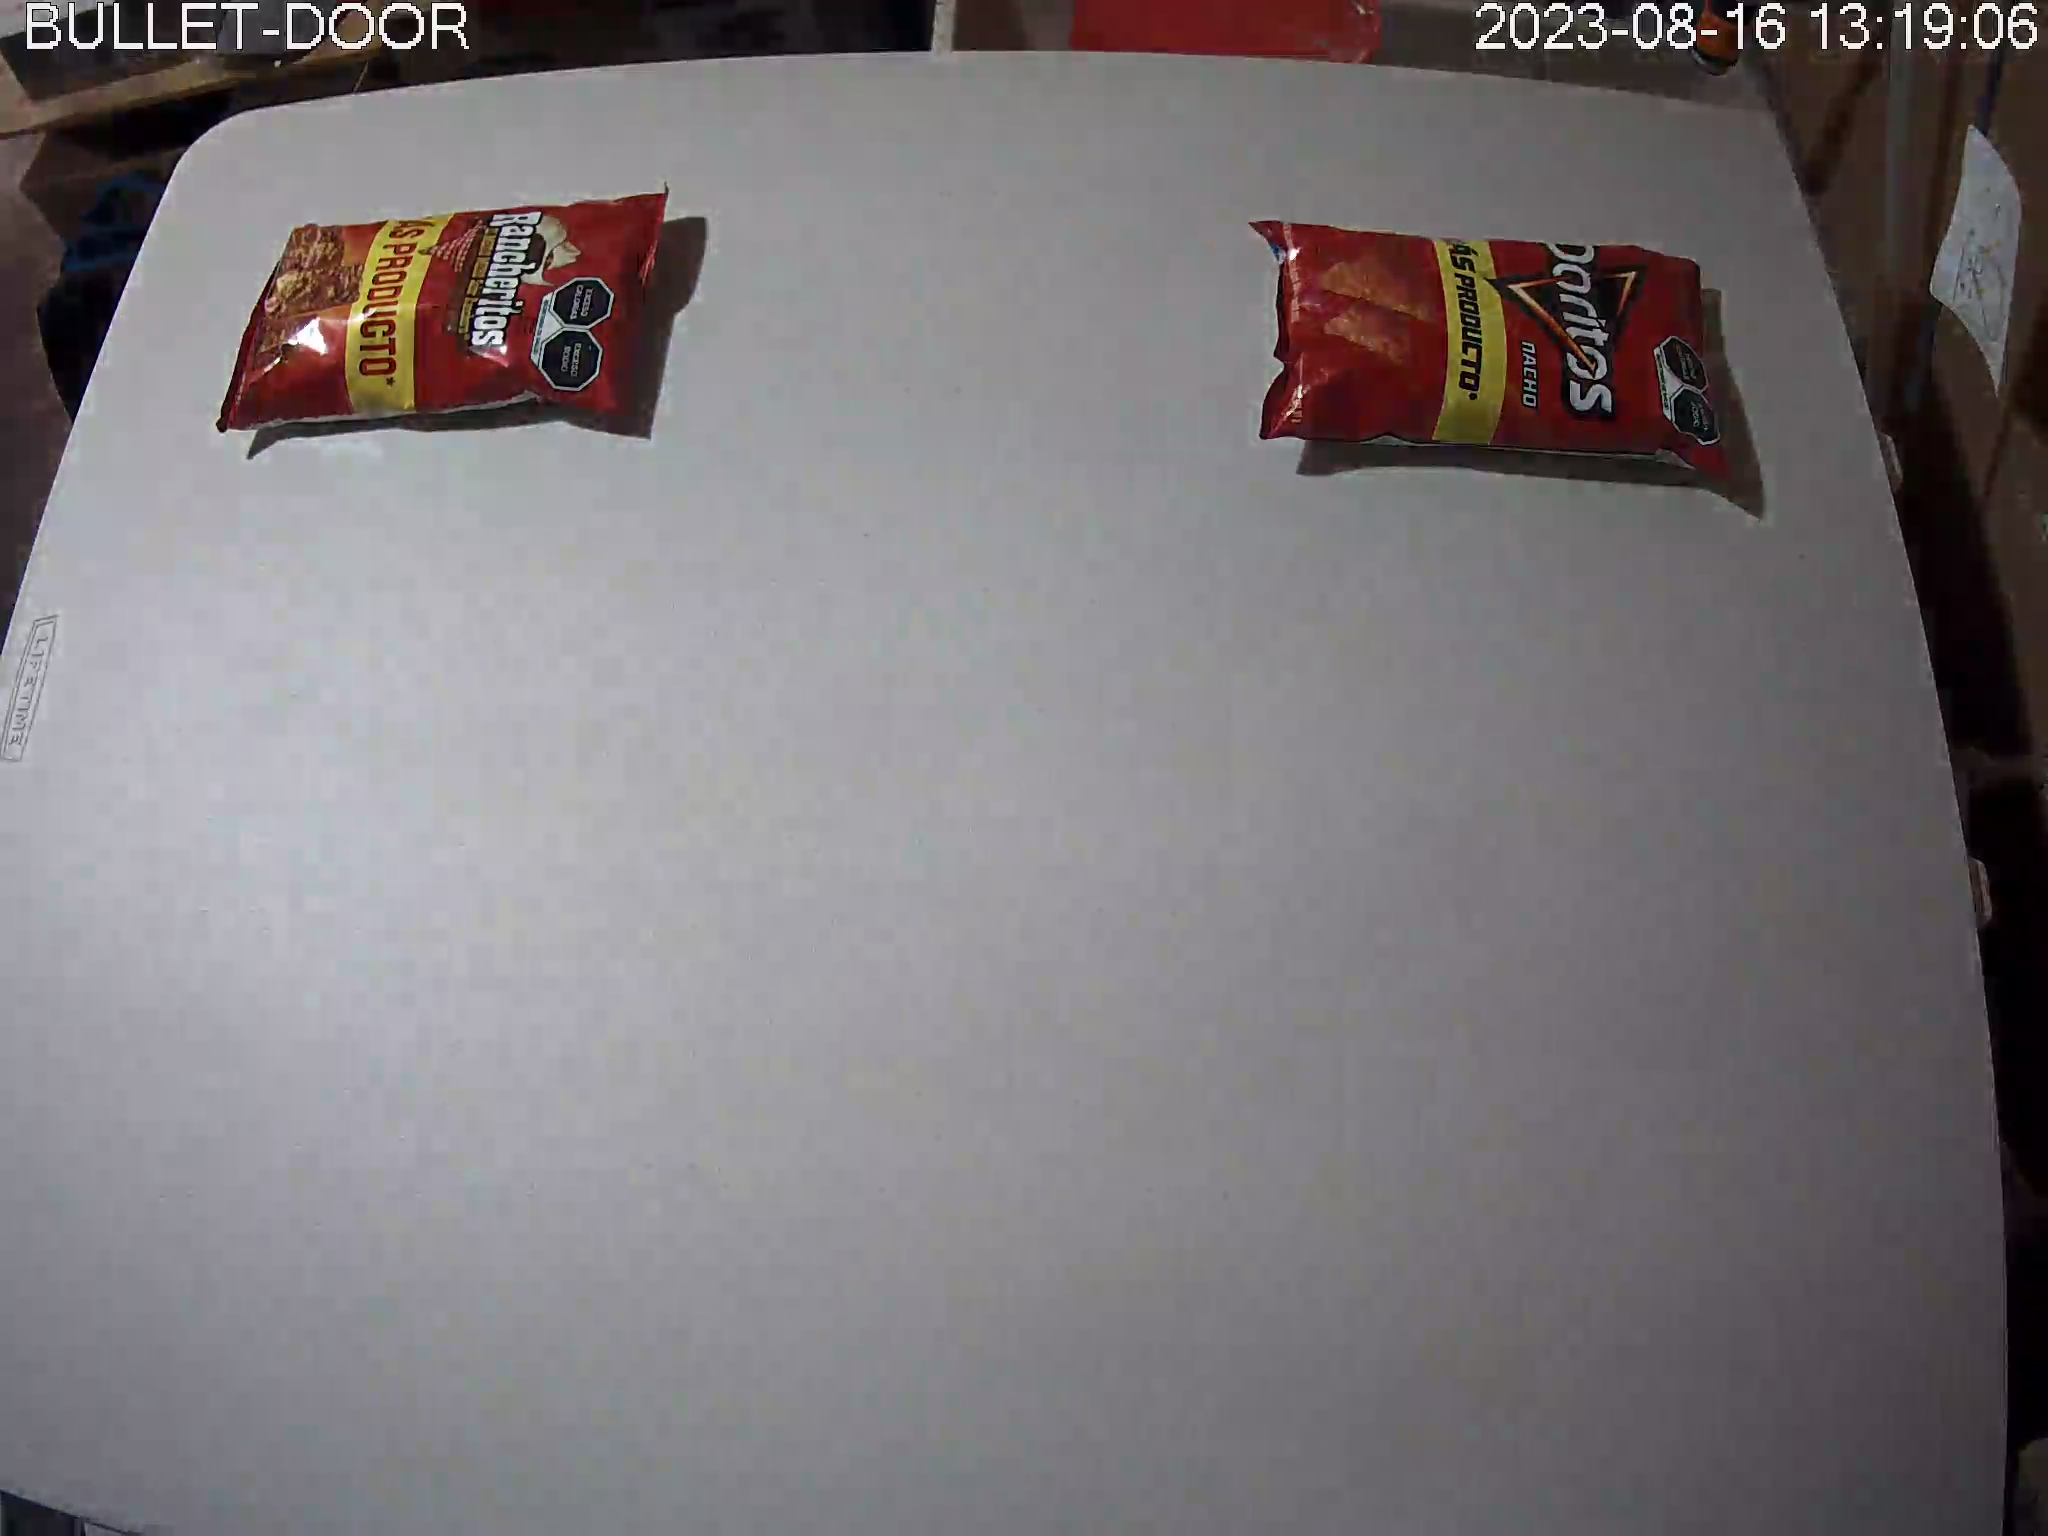DoritosN_61_F: (1245, 216, 1735, 507)
Rancheritos_58_F: (214, 181, 671, 431)
